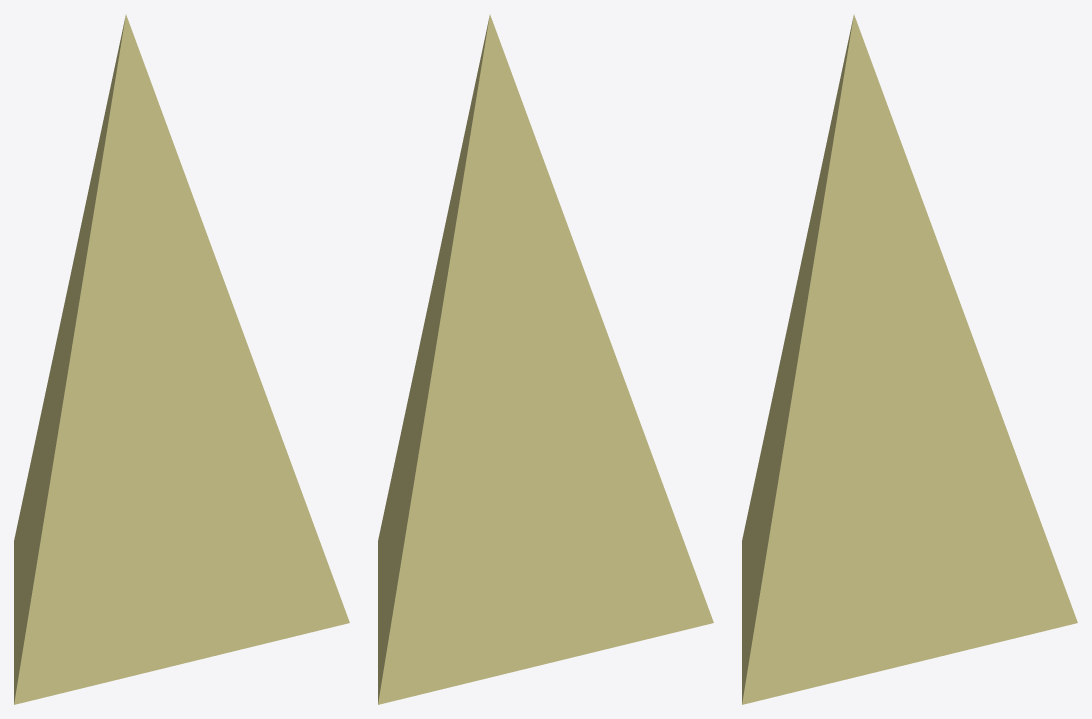
The model's file is grass-01.dae.
3 renders of one model, left to right at view 1: azimuth 30°, elevation 25°; view 2: azimuth 150°, elevation 25°; view 3: azimuth 270°, elevation 25°, orthographic.
Parts seen in each view (by area): view 1: Cone; view 2: Cone; view 3: Cone.
Boxes of the visible parts, left/top/right/bottom form: Cone: left=14, top=14, right=349, bottom=704; Cone: left=378, top=14, right=713, bottom=704; Cone: left=742, top=14, right=1077, bottom=704.
Bounding box in the file's own units: 0.3464 × 0.3 × 0.6.
